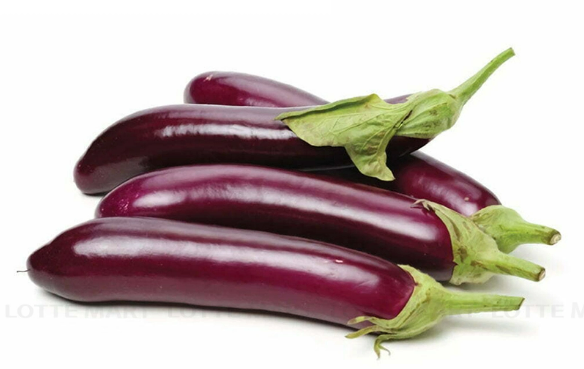catim: (17, 231, 526, 341), (97, 178, 549, 289), (60, 94, 489, 182), (186, 60, 294, 109)
